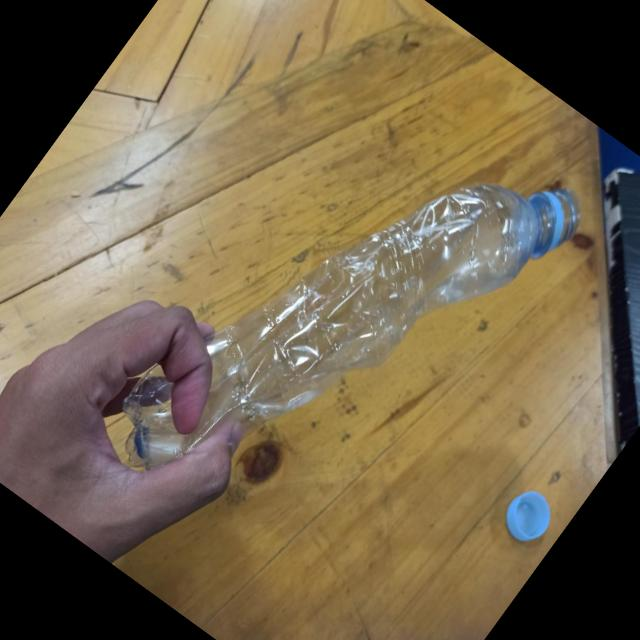BotolPlastik: (92, 46, 596, 597)
